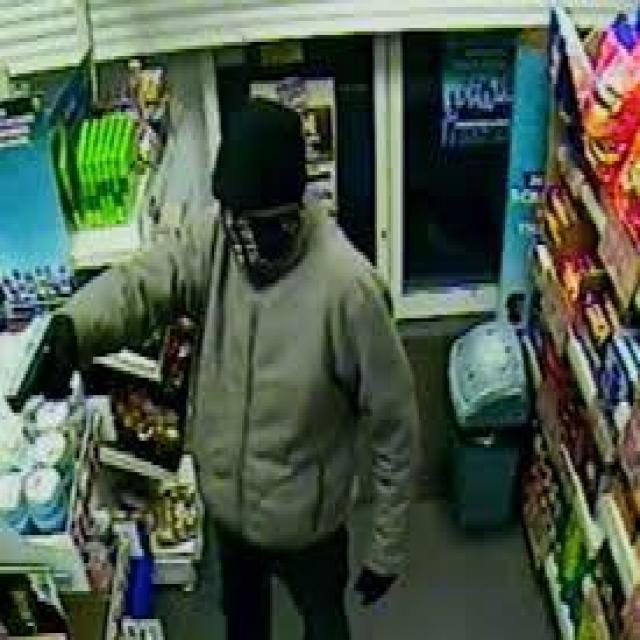weapon: (2, 290, 63, 420)
